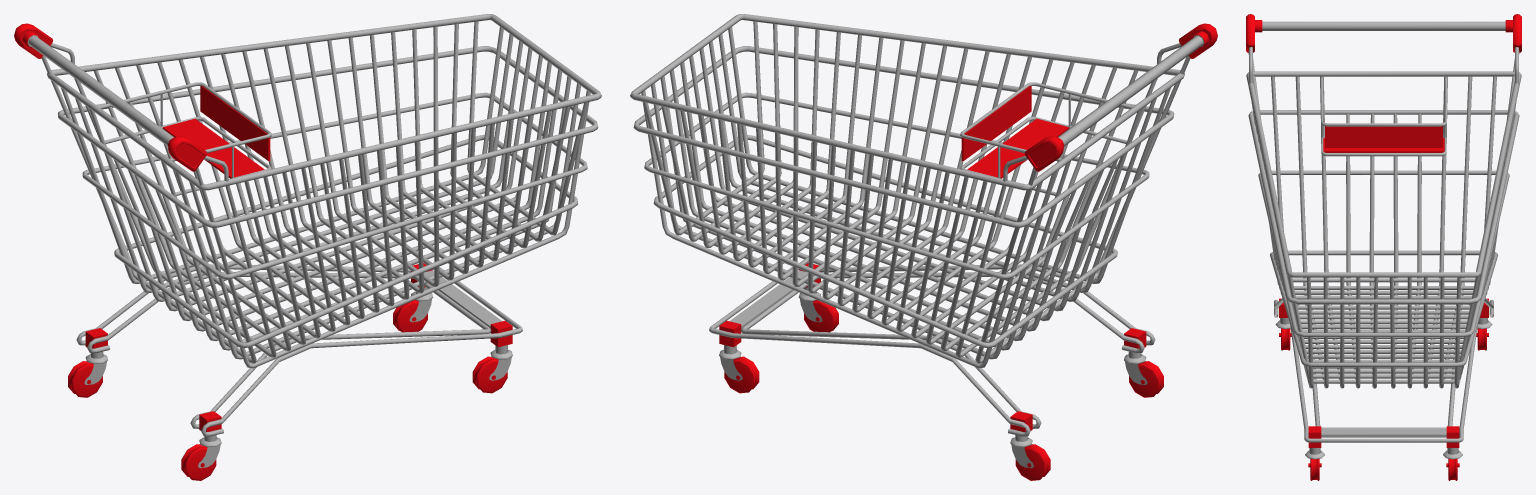
The model's file is Carrito.fbx.
3 renders of one model, left to right at view 1: azimuth 30°, elevation 25°; view 2: azimuth 150°, elevation 25°; view 3: azimuth 270°, elevation 25°, orthographic. The views are drawn at different scales.
Parts seen in each view (by area): view 1: CARRITO DE LA COMPRA; view 2: CARRITO DE LA COMPRA; view 3: CARRITO DE LA COMPRA.
Part boxes in pixels (x1,y1,x2,y2): CARRITO DE LA COMPRA: (14,14,601,480); CARRITO DE LA COMPRA: (630,14,1217,480); CARRITO DE LA COMPRA: (1246,14,1521,480).
Bounding box in the file's own units: 134 × 103 × 81.06.
